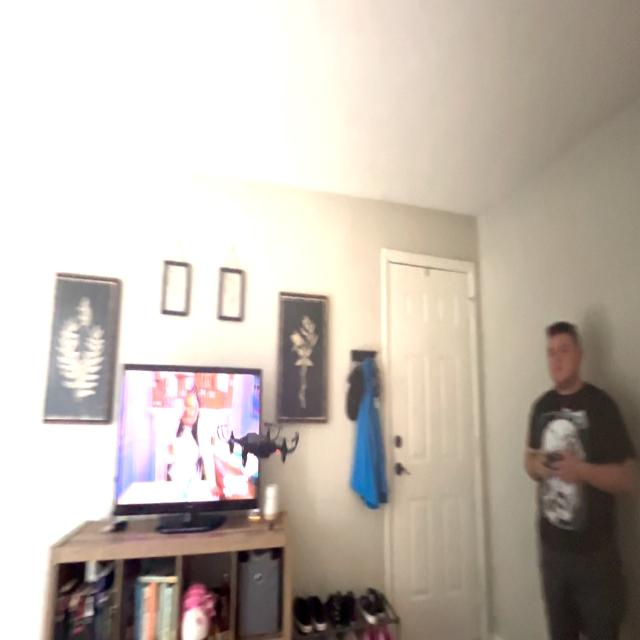drone: (212, 399, 304, 494)
